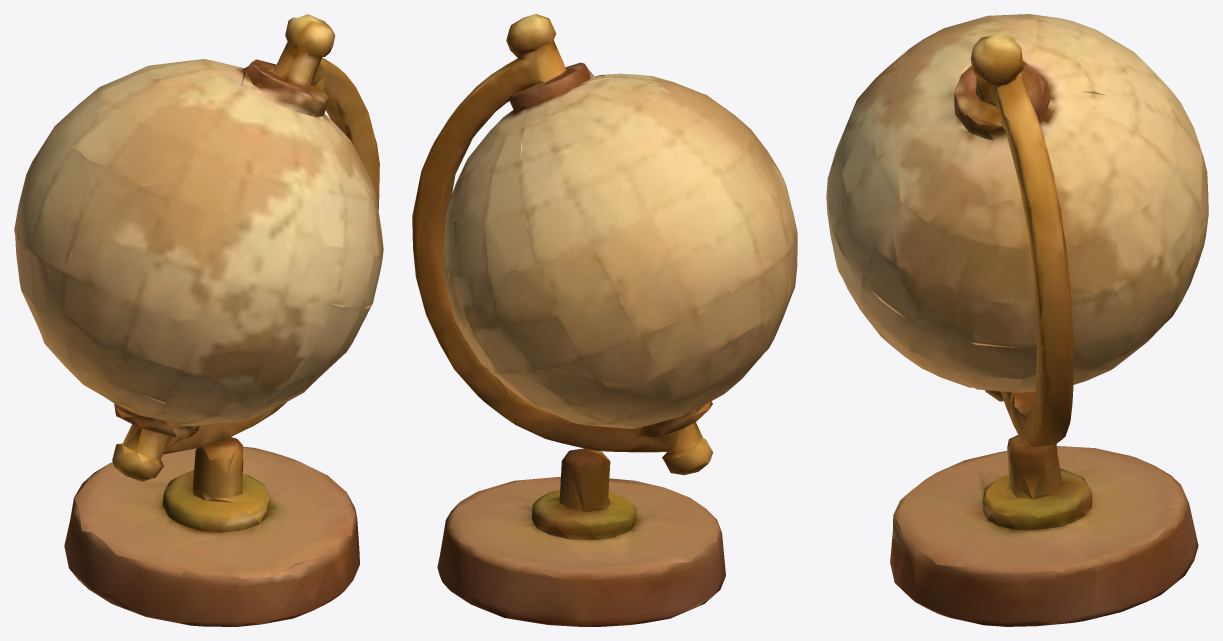
Rendered from deco43.glb.
3 views of the same model, side by side, from view 1: azimuth 30°, elevation 25°; view 2: azimuth 150°, elevation 25°; view 3: azimuth 270°, elevation 25° (orthographic). The views are drawn at different scales.
Bounding box in the file's own units: 0.1709 × 0.2563 × 0.1552.
Materials: 1 (1 with a texture image).
